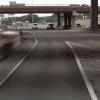Bridge: (2, 1, 93, 21)
